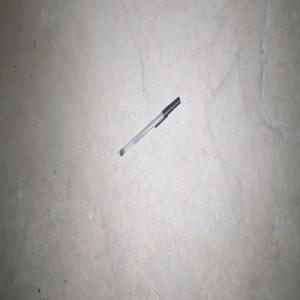Pen: (119, 96, 180, 157)
